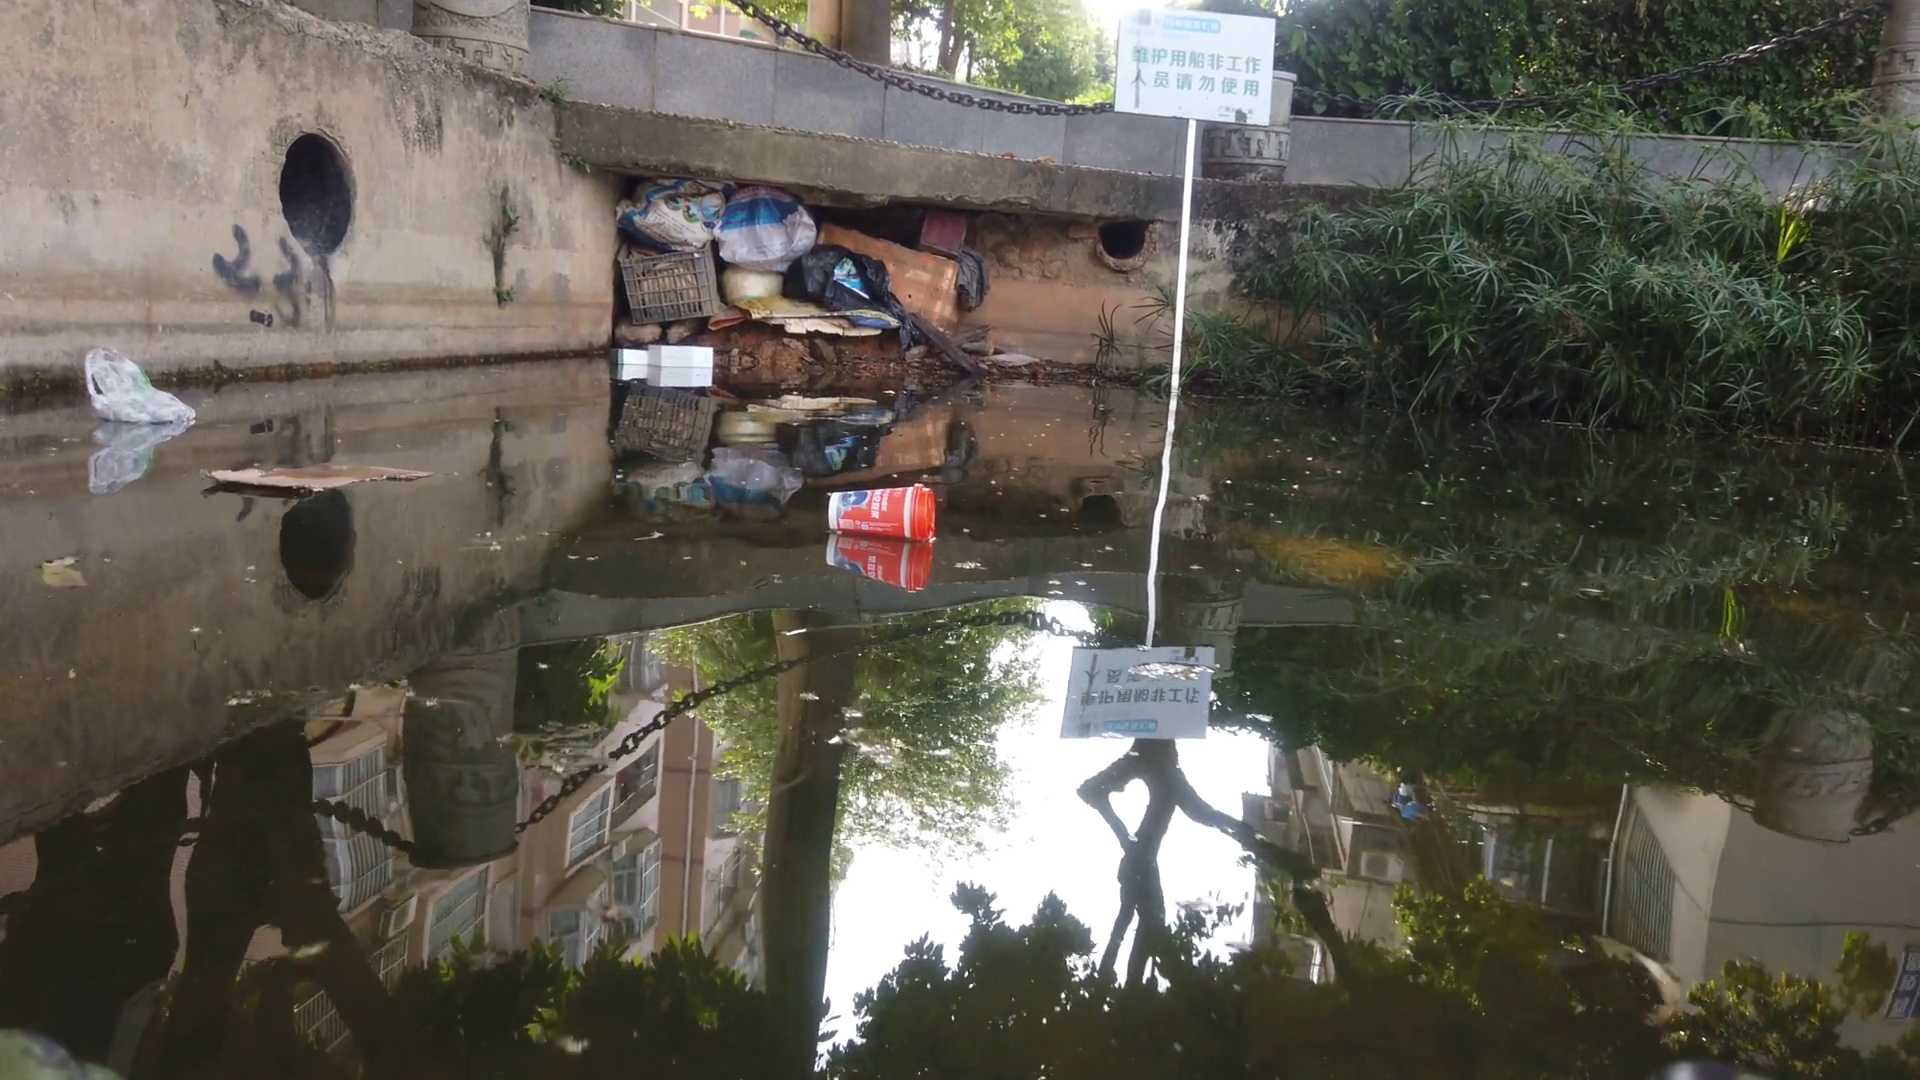bottle: (824, 473, 942, 541)
carton: (645, 343, 719, 367), (615, 343, 651, 364)
paper: (195, 456, 435, 495)
plastic: (76, 345, 208, 425)
